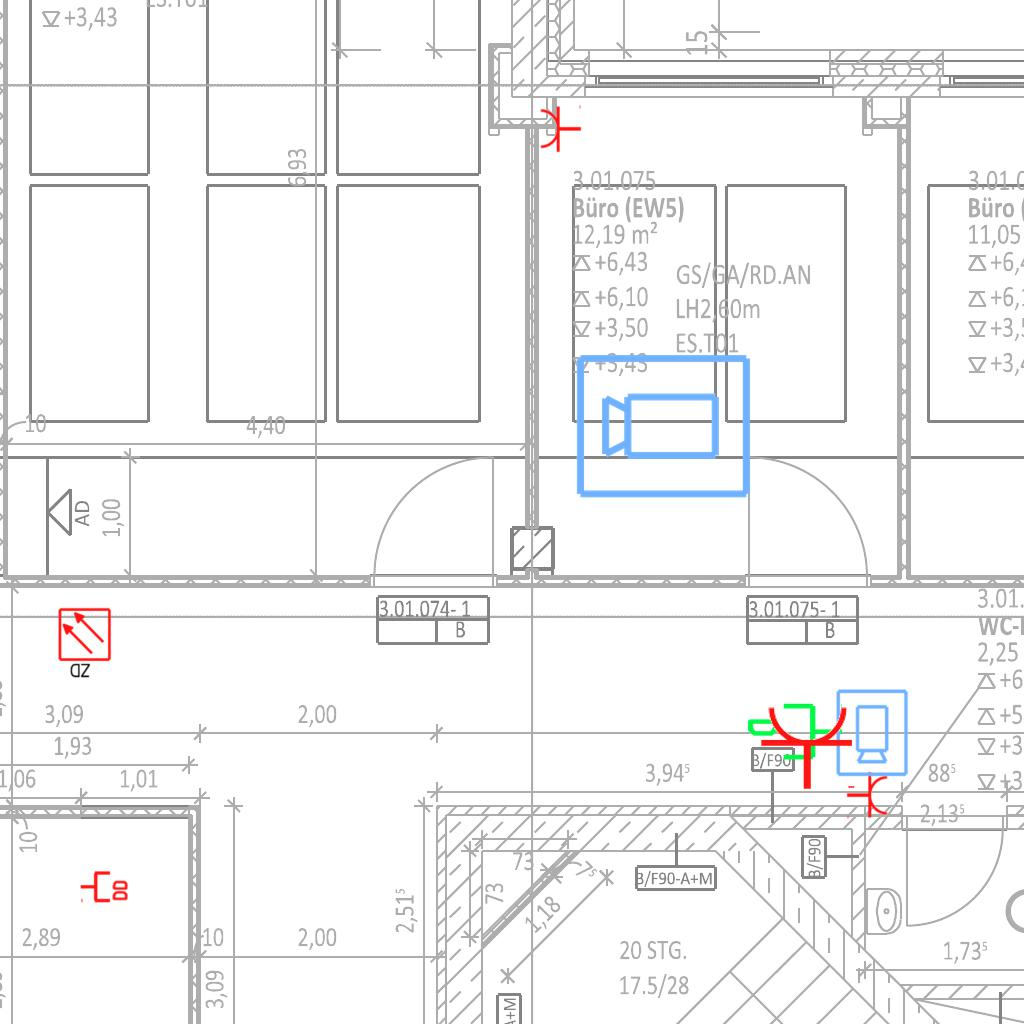Datenanschluss_einfach: (745, 699, 845, 768)
Datenanschluss_zweifach: (79, 869, 130, 903)
KFO_Kamera_mit_Festobjektiv: (573, 348, 755, 502), (833, 687, 910, 778)
Schukosteckdose_einfach: (759, 704, 859, 791), (539, 103, 582, 153), (846, 771, 889, 821)
ZD_Melder_in_Zwischendecke_mit_Revisionsoeffnung_mind_40_x_40_cm: (57, 607, 114, 681)
